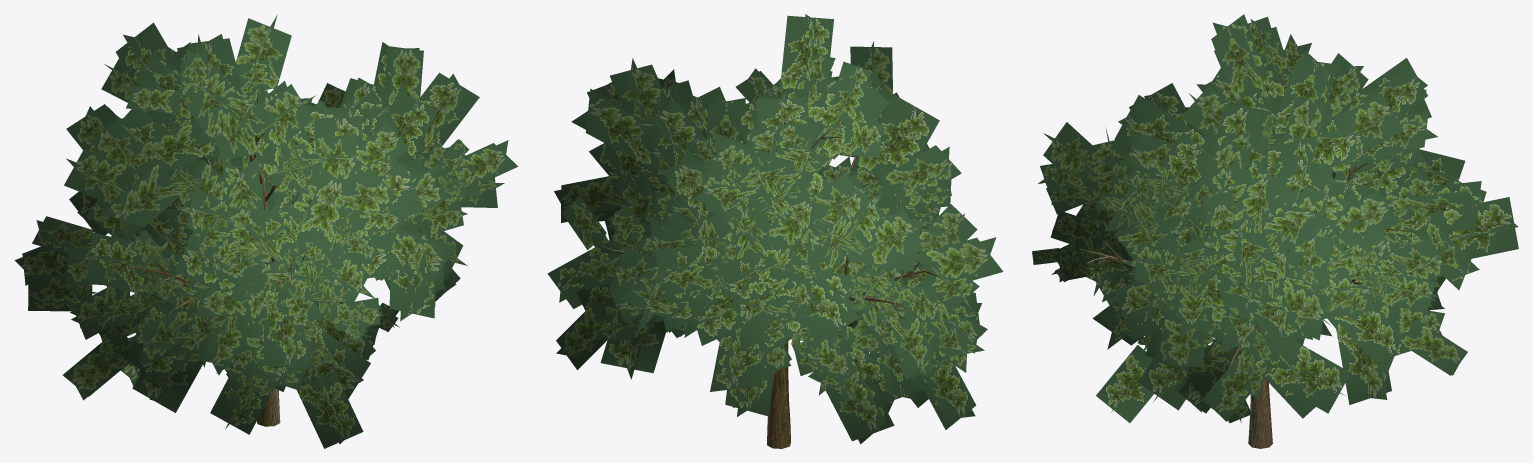
The model's file is oak-terraintale-cc0.glb.
3 renders of one model, left to right at view 1: azimuth 30°, elevation 25°; view 2: azimuth 150°, elevation 25°; view 3: azimuth 270°, elevation 25°, orthographic.
Parts seen in each view (by area): view 1: oak_tree_large; view 2: oak_tree_large; view 3: oak_tree_large.
Part boxes in pixels (x1=…): oak_tree_large: x1=14, y1=15, x2=518, y2=448; oak_tree_large: x1=547, y1=14, x2=1003, y2=448; oak_tree_large: x1=1032, y1=14, x2=1518, y2=448.
Size of the model in its own units: 6.27 by 5.95 by 6.32.
Materials: 2 (2 with a texture image).
